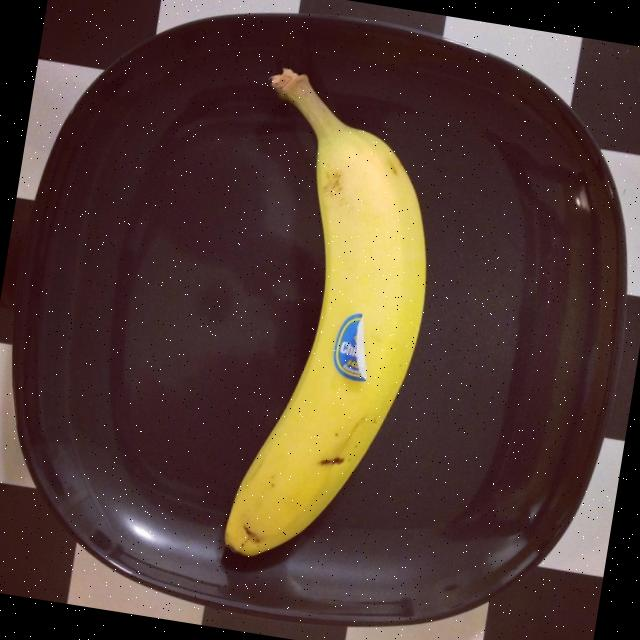banana: (220, 74, 425, 559)
